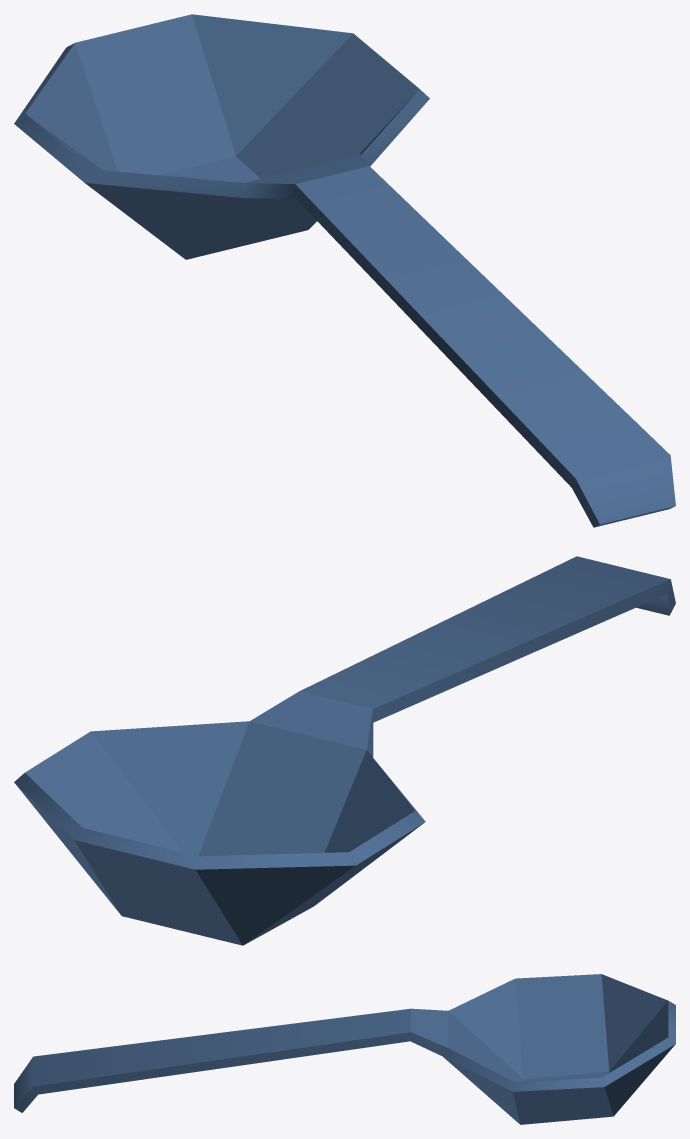
File: Spoon.fbx
3 views of the same model, one above another, from view 1: azimuth 30°, elevation 25°; view 2: azimuth 150°, elevation 25°; view 3: azimuth 270°, elevation 25° (orthographic). The views are drawn at different scales.
Parts seen in each view (by area): view 1: Spoon; view 2: Spoon; view 3: Spoon.
Part boxes in pixels (left/top/right/bottom): Spoon: left=14, top=14, right=675, bottom=527; Spoon: left=14, top=556, right=675, bottom=945; Spoon: left=14, top=974, right=675, bottom=1124.
Bounding box in the file's own units: 7.38 × 2.72 × 18.86.
